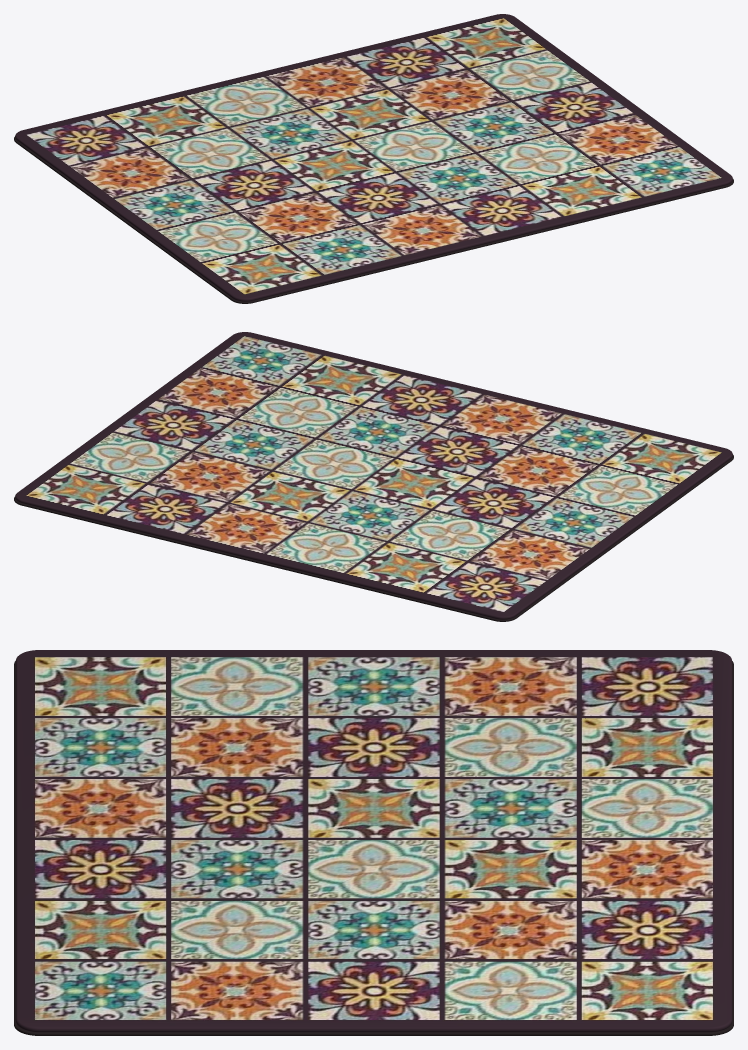
3 views of the same model, one above another, from view 1: azimuth 30°, elevation 25°; view 2: azimuth 150°, elevation 25°; view 3: azimuth 270°, elevation 25° (orthographic). The views are drawn at different scales.
Visible parts, largest first — view 1: HomeCloud Dish Drying Mat; view 2: HomeCloud Dish Drying Mat; view 3: HomeCloud Dish Drying Mat.
Part boxes in pixels (bbox=[...]): HomeCloud Dish Drying Mat: bbox=[14, 14, 733, 303]; HomeCloud Dish Drying Mat: bbox=[14, 332, 733, 621]; HomeCloud Dish Drying Mat: bbox=[14, 650, 733, 1035].
Size of the model in its own units: 0.5 by 0.00451 by 0.4.
2 materials, 1 textured.
